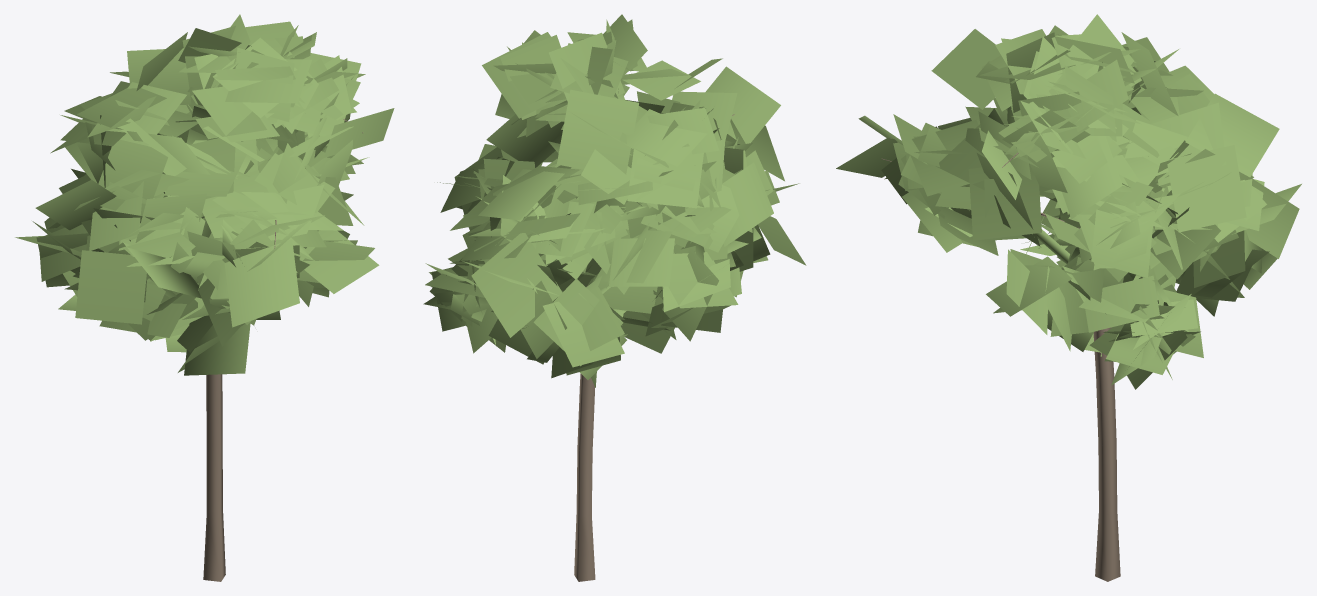
Rendered from Pine_2_lod2.glb.
3 views of the same model, side by side, from view 1: azimuth 30°, elevation 25°; view 2: azimuth 150°, elevation 25°; view 3: azimuth 270°, elevation 25° (orthographic). The views are drawn at different scales.
Parts seen in each view (by area): view 1: Pine_2_lod2; view 2: Pine_2_lod2; view 3: Pine_2_lod2.
Part boxes in pixels (bbox=[...]): Pine_2_lod2: bbox=[15, 14, 394, 581]; Pine_2_lod2: bbox=[423, 14, 806, 581]; Pine_2_lod2: bbox=[836, 14, 1301, 581].
Size of the model in its own units: 12.67 by 19.93 by 15.32.
